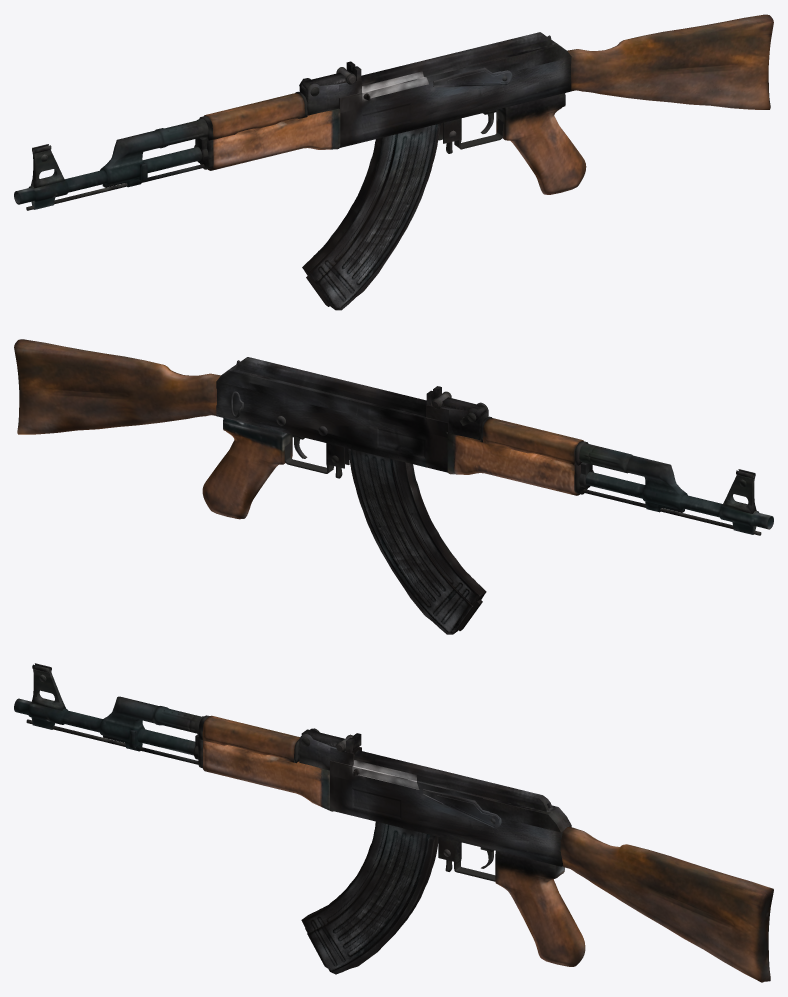
The picture shows the model from 3 angles, top to bottom: view 1: azimuth 30°, elevation 25°; view 2: azimuth 150°, elevation 25°; view 3: azimuth 330°, elevation 25°; orthographic projection.
Parts seen in each view (by area): view 1: Ak-47.001; view 2: Ak-47.001; view 3: Ak-47.001.
Boxes of the visible parts, <box> form: Ak-47.001: <box>14,14,773,310</box>; Ak-47.001: <box>14,339,773,634</box>; Ak-47.001: <box>14,663,773,982</box>.
Size of the model in its own units: 39037 by 11797 by 1319.
2 materials, 2 textured.
